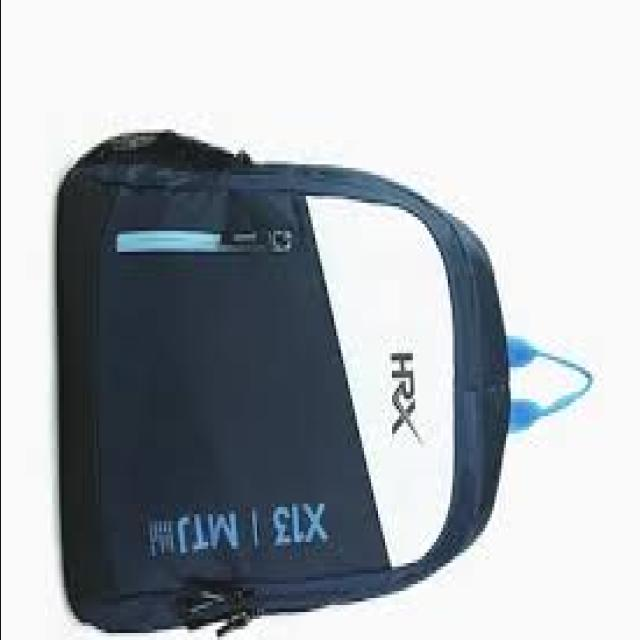backpack: (57, 127, 595, 637)
